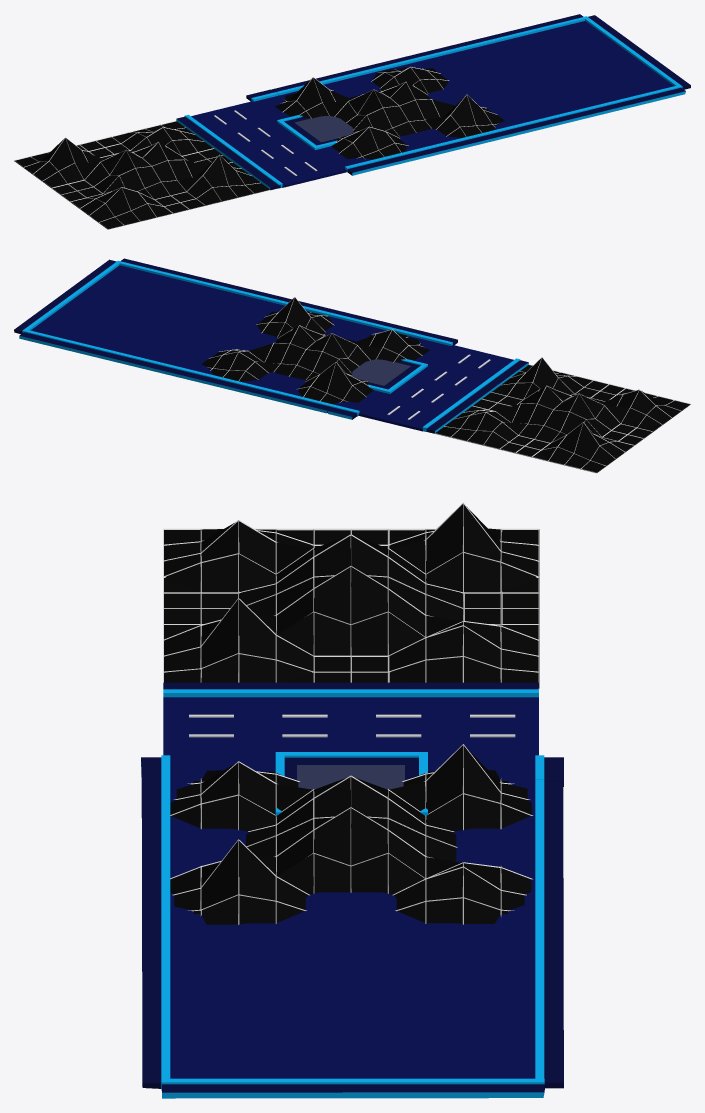
File: new_platform_empty_field_for_GAS.fbx
3 views of the same model, one above another, from view 1: azimuth 30°, elevation 25°; view 2: azimuth 150°, elevation 25°; view 3: azimuth 270°, elevation 25° (orthographic). The views are drawn at different scales.
Parts seen in each view (by area): view 1: Cube.014, Plane.001, Plane, Cube.013, Cube.006, Plane.002, Cube.008, Cube.001, Cube.015, Cube; view 2: Cube.014, Plane.001, Plane, Cube.013, Cube.008, Plane.002, Cube.006, Cube.001, Cube.015, Cube; view 3: Cube.014, Plane.001, Plane, Cube.013, Plane.002, Cube.006, Cube.008, Cube.015, Cube.001, Cube.
Part boxes in pixels (x1,y1,x2,y2): Cube.014: [250, 21, 673, 172]; Plane.001: [14, 121, 269, 229]; Plane: [275, 66, 504, 159]; Cube.013: [191, 102, 343, 187]; Cube.006: [367, 85, 685, 169]; Plane.002: [14, 120, 269, 229]; Cube.008: [271, 14, 587, 95]; Cube.001: [176, 114, 318, 190]; Cube.015: [584, 15, 690, 89]; Cube: [294, 116, 353, 142]; Cube.014: [31, 265, 455, 416]; Plane.001: [435, 357, 690, 472]; Plane: [201, 297, 429, 403]; Cube.013: [362, 345, 513, 431]; Cube.008: [19, 329, 334, 413]; Plane.002: [434, 364, 690, 473]; Cube.006: [119, 258, 432, 340]; Cube.001: [386, 358, 528, 433]; Cube.015: [14, 259, 121, 334]; Cube: [352, 359, 410, 385]; Cube.014: [170, 756, 535, 1078]; Plane.001: [163, 502, 538, 682]; Plane: [170, 744, 533, 924]; Cube.013: [163, 697, 538, 756]; Plane.002: [163, 529, 539, 689]; Cube.006: [141, 776, 170, 1088]; Cube.008: [535, 779, 563, 1088]; Cube.015: [161, 1078, 544, 1098]; Cube.001: [163, 682, 538, 764]; Cube: [297, 765, 404, 789].
Size of the model in its own units: 5718 by 297 by 1799.
